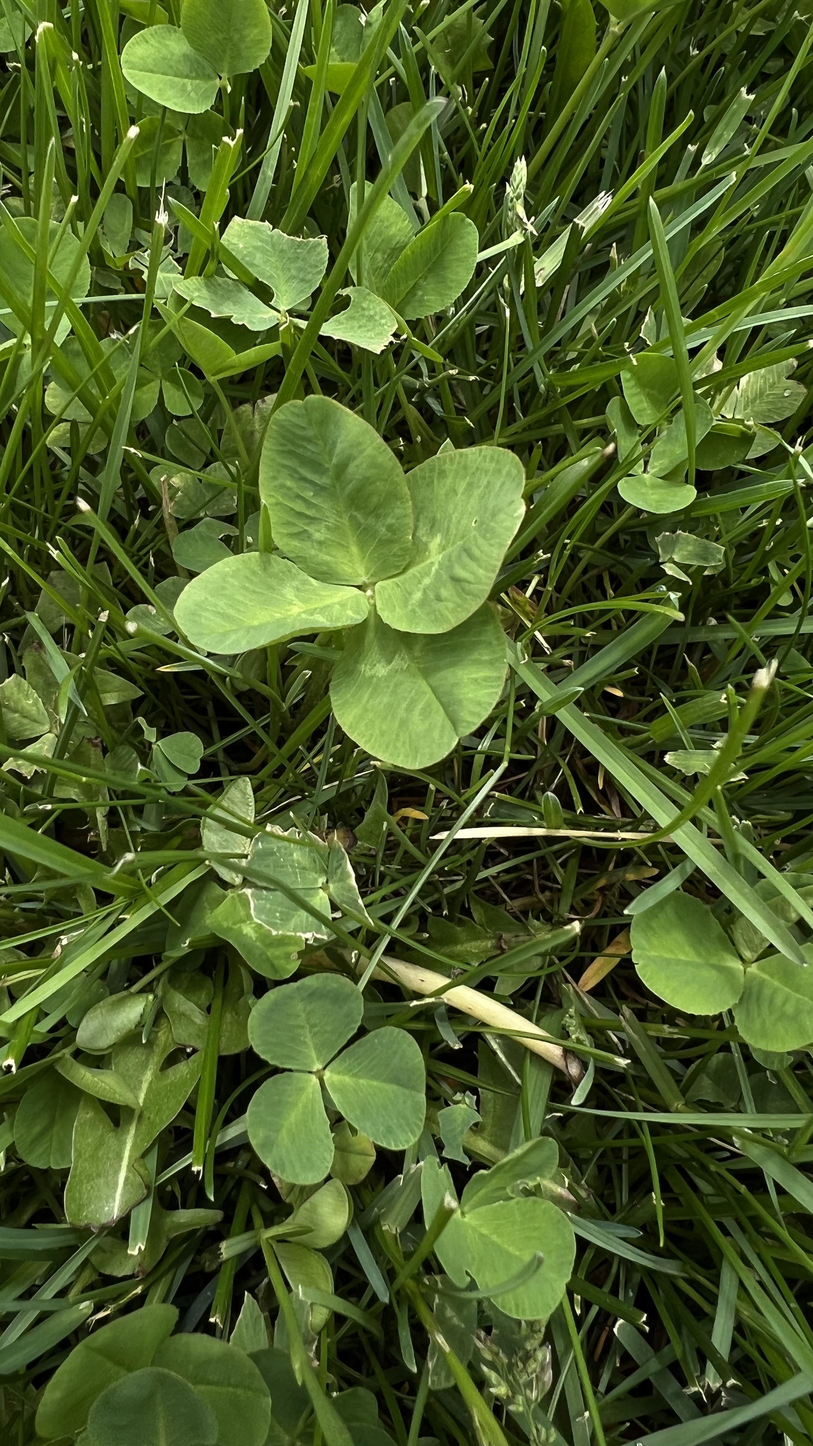4-Leaf-Clovers: (192, 398, 525, 778)
